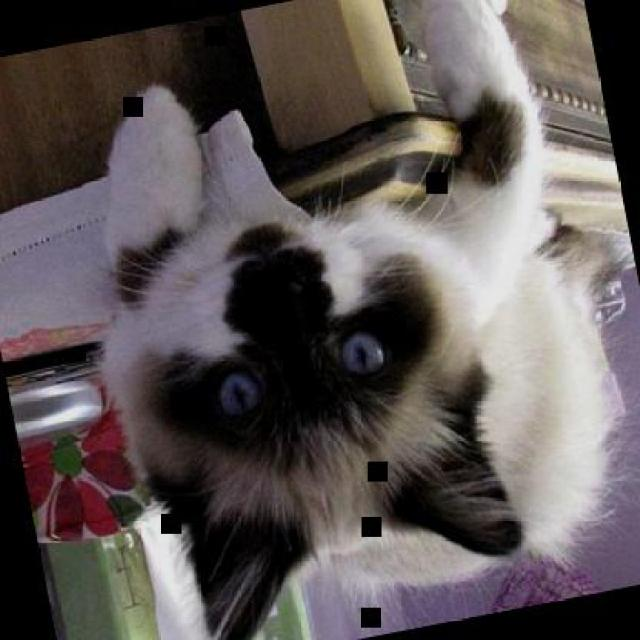cat: (49, 0, 638, 638)
